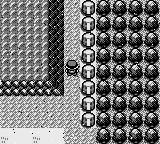main: (65, 60, 79, 76)
no-caminable: (96, 1, 159, 144), (0, 0, 64, 95), (80, 1, 96, 128)
